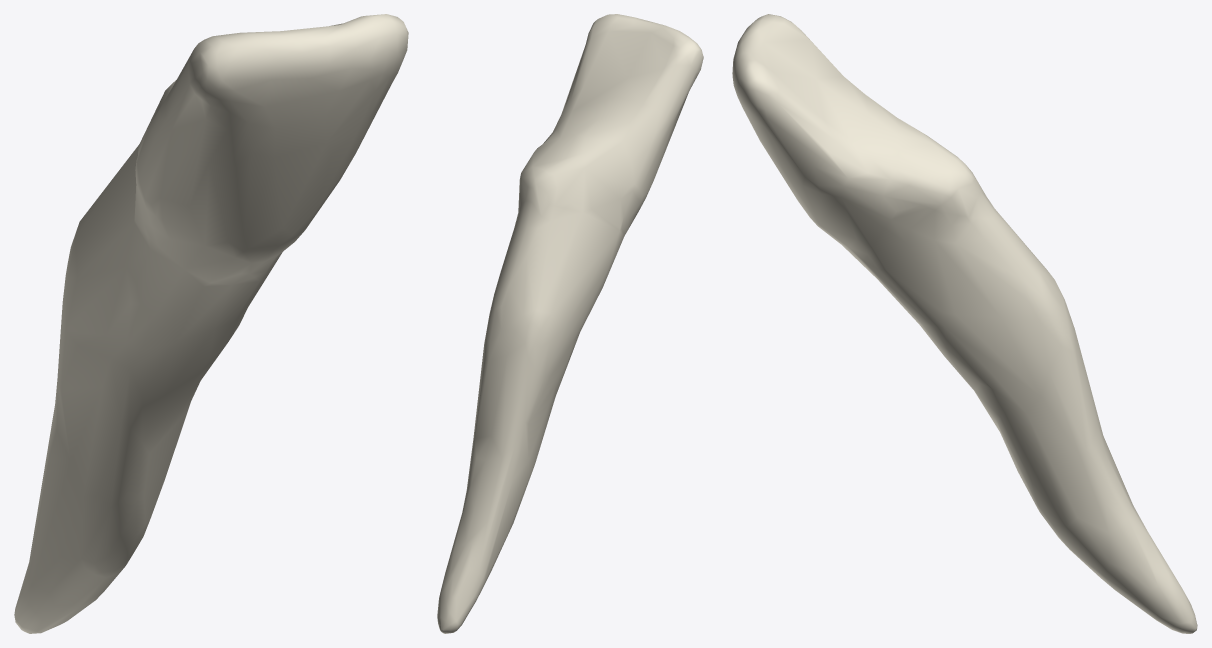
3 views of the same model, side by side, from view 1: azimuth 30°, elevation 25°; view 2: azimuth 150°, elevation 25°; view 3: azimuth 270°, elevation 25° (orthographic). The views are drawn at different scales.
Visible parts, largest first — view 1: ZA_1f4d9f0f62b1a45b; view 2: ZA_1f4d9f0f62b1a45b; view 3: ZA_1f4d9f0f62b1a45b.
Boxes of the visible parts, x1,y1,x2,y2 form: ZA_1f4d9f0f62b1a45b: [14, 14, 408, 633]; ZA_1f4d9f0f62b1a45b: [437, 14, 703, 633]; ZA_1f4d9f0f62b1a45b: [732, 14, 1197, 633].
Size of the model in its own units: 0.00612 by 0.0247 by 0.0179.
